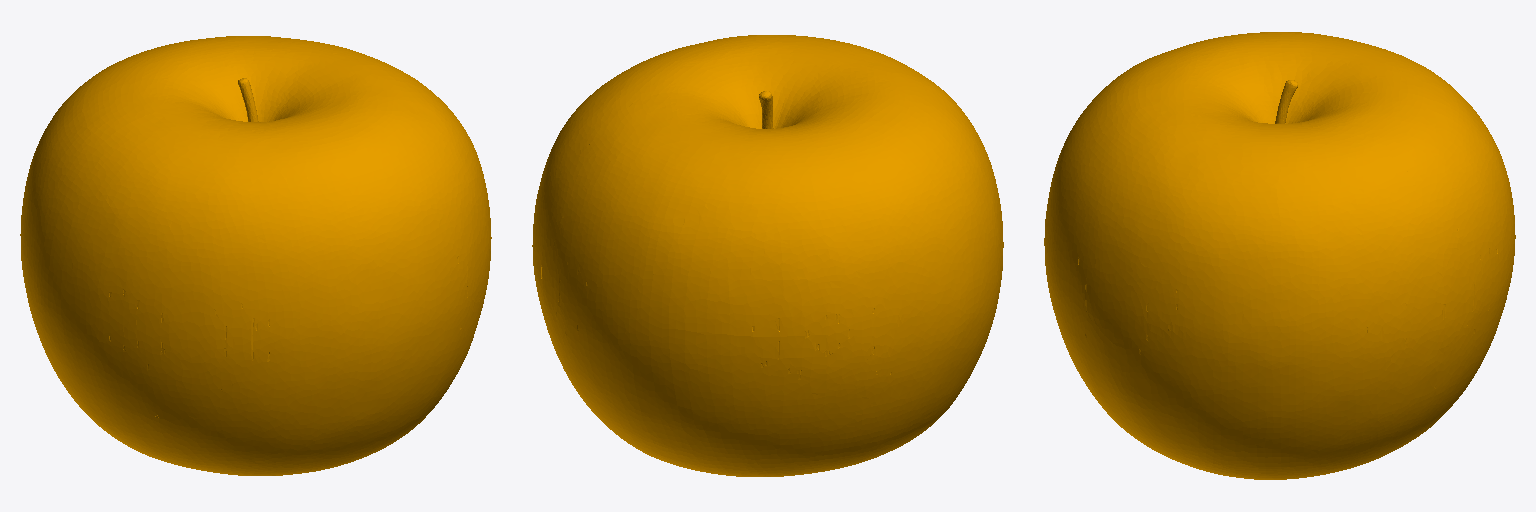
URDF robot description (sample):
<?xml version="1.0" ?>
<robot name="sample">
   <link name="sample">
      <visual>
         <origin xyz="0 0 0" rpy="1.5708 0.0 0.0"/>
         <geometry>
            <mesh filename="mesh/sample.obj" scale="1.0 1.0 1.0"/>
         </geometry>
      </visual>
      <collision>
         <origin xyz="0 0 0" rpy="1.5708 0.0 0.0"/>
         <geometry>
            <mesh filename="mesh/sample_collision.obj" scale="1.0 1.0 1.0"/>
         </geometry>
         <gazebo>
            <mu1>0.40</mu1>
            <mu2>0.30</mu2>
         </gazebo>
      </collision>
      <inertial>
         <mass value="0.1750"/>
         <origin xyz="0 0 0"/>
         <inertia ixx="1.0" ixy="0.0" ixz="0.0" iyy="1.0" iyz="0.0" izz="1.0"/>
      </inertial>
      <extra_info>
         <scale>0.112113</scale>
         <version>v0.1.7</version>
         <category>apple</category>
         <description>red and yellow striped apple with smooth surface</description>
         <min_height>0.08</min_height>
         <max_height>0.1</max_height>
         <real_height>0.09</real_height>
         <min_mass>0.15</min_mass>
         <max_mass>0.2</max_mass>
         <color>red</color>
         <rgba>[0.8, 0.2, 0.1, 1.0]</rgba>
         <generate_time>20260526144927</generate_time>
         <gs_model>mesh/sample_gs.ply</gs_model>
      </extra_info>
   </link>
   <custom_data>
      <quality>
         <MeshGeoChecker>YES</MeshGeoChecker>
         <ImageSegChecker>NO, leaf and stem missing, incomplete geometry, not centered.</ImageSegChecker>
         <ImageAestheticChecker>4.350591063499451</ImageAestheticChecker>
         <overall>NO</overall>
      </quality>
   </custom_data>
</robot>

--- Facts derived from the render (not from the file) ---
3 views of the same robot in one strip: view 1: azimuth 30°, elevation 25°; view 2: azimuth 150°, elevation 25°; view 3: azimuth 270°, elevation 25° (orthographic).
Model sample with 1 links and 0 joints (none), rooted at sample, posed every joint at zero.
Visible links, largest first — view 1: sample; view 2: sample; view 3: sample.
Boxes of the visible links, left/top/right/bottom form: sample: left=20, top=36, right=491, bottom=475; sample: left=532, top=35, right=1003, bottom=476; sample: left=1044, top=32, right=1515, bottom=479.
Size in the robot's own frame: 0.1121 by 0.1113 by 0.09 metres.
Meshes: 1 distinct files referenced, 1 mesh visuals loaded (1 OBJ).
